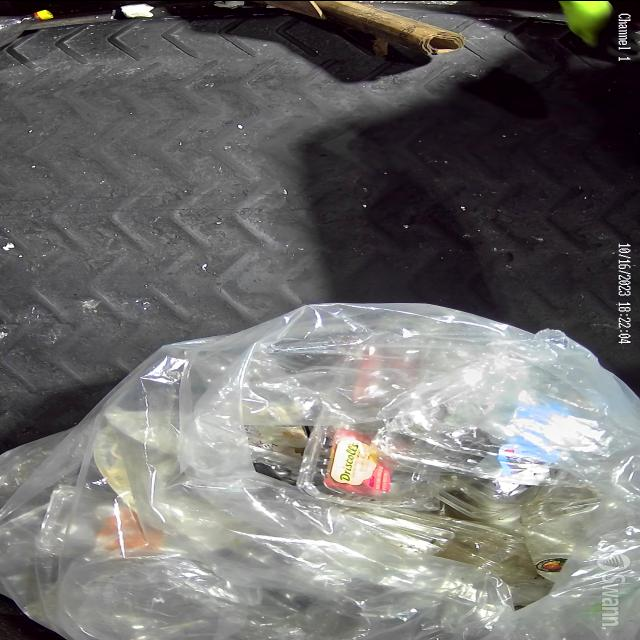plastic_bottle: (0, 7, 52, 46)
